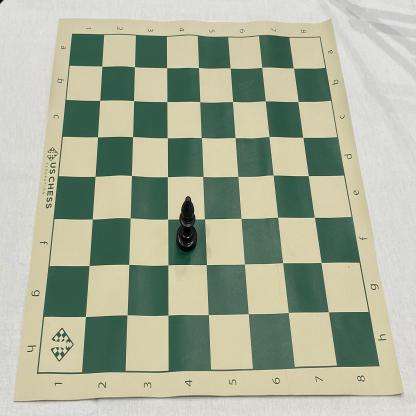black-bishop: (176, 195, 198, 253)
